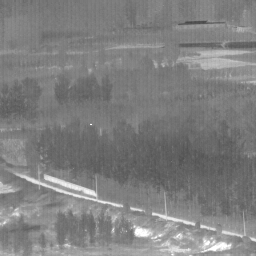aircraft: (90, 124, 92, 126)
